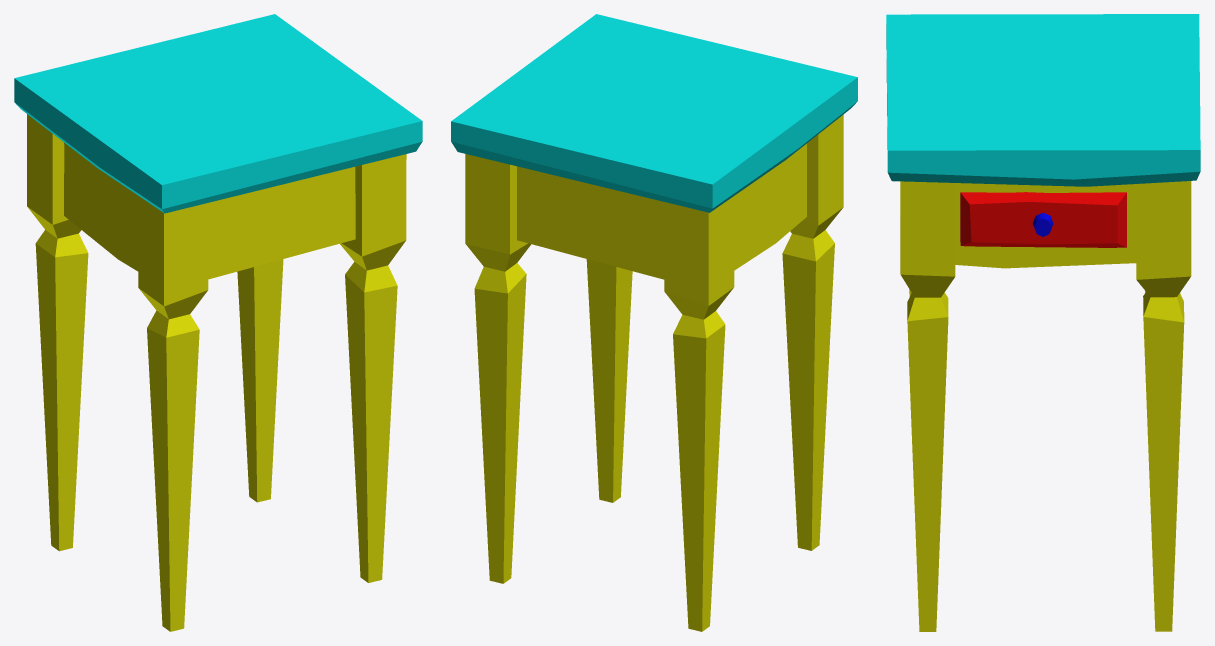
File: LivingRoom_HighNarrowTable.fbx
The picture shows the model from 3 angles, left to right: view 1: azimuth 30°, elevation 25°; view 2: azimuth 150°, elevation 25°; view 3: azimuth 270°, elevation 25°; orthographic projection. The views are drawn at different scales.
Visible parts, largest first — view 1: LivingRoom_HighNarrowTable; view 2: LivingRoom_HighNarrowTable; view 3: LivingRoom_HighNarrowTable.
Part boxes in pixels (bbox=[...]): LivingRoom_HighNarrowTable: bbox=[14, 14, 422, 631]; LivingRoom_HighNarrowTable: bbox=[451, 14, 857, 631]; LivingRoom_HighNarrowTable: bbox=[886, 14, 1200, 631].
Size of the model in its own units: 74.84 by 126 by 72.72.
